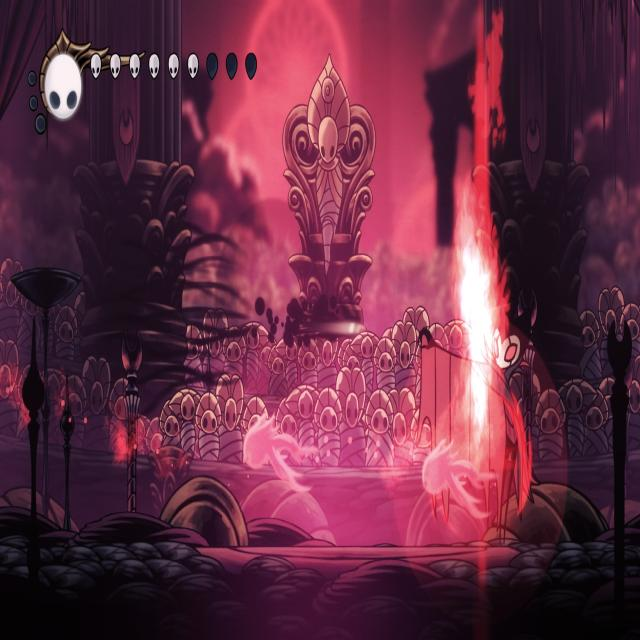Fire Bat: (244, 413, 316, 491), (422, 440, 492, 520)
Open Cloak: (414, 292, 544, 549)
Player: (312, 279, 368, 347)
